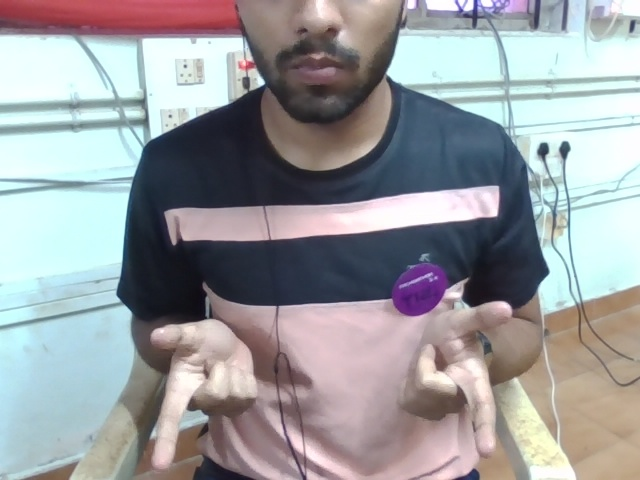go: (124, 275, 543, 480)
